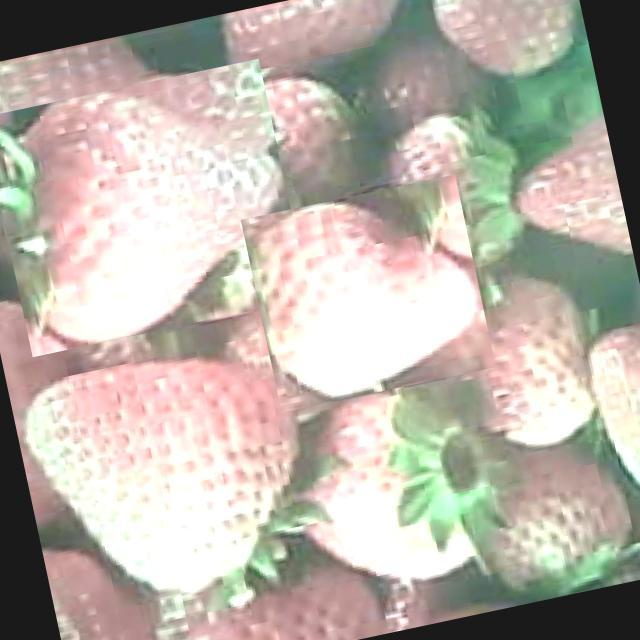ripe: (0, 58, 309, 356), (14, 336, 318, 618), (240, 174, 496, 412)
